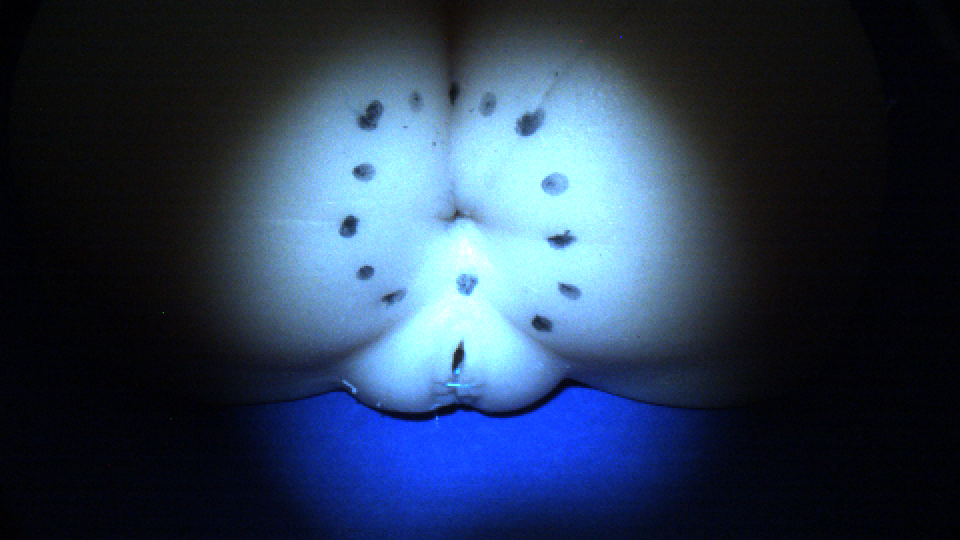asarp_marker: (515, 101, 547, 141), (535, 169, 572, 197), (358, 95, 385, 131), (351, 158, 384, 185), (528, 308, 557, 337), (556, 275, 586, 302), (376, 285, 408, 310), (338, 211, 362, 244), (545, 232, 583, 252), (453, 274, 484, 298), (477, 89, 500, 119), (353, 261, 379, 285), (404, 88, 429, 111), (447, 80, 464, 108)
